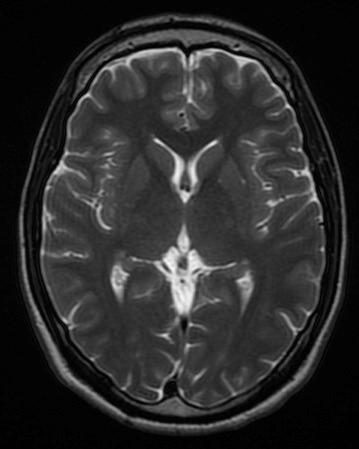Normal_Brain: (4, 1, 359, 449)
